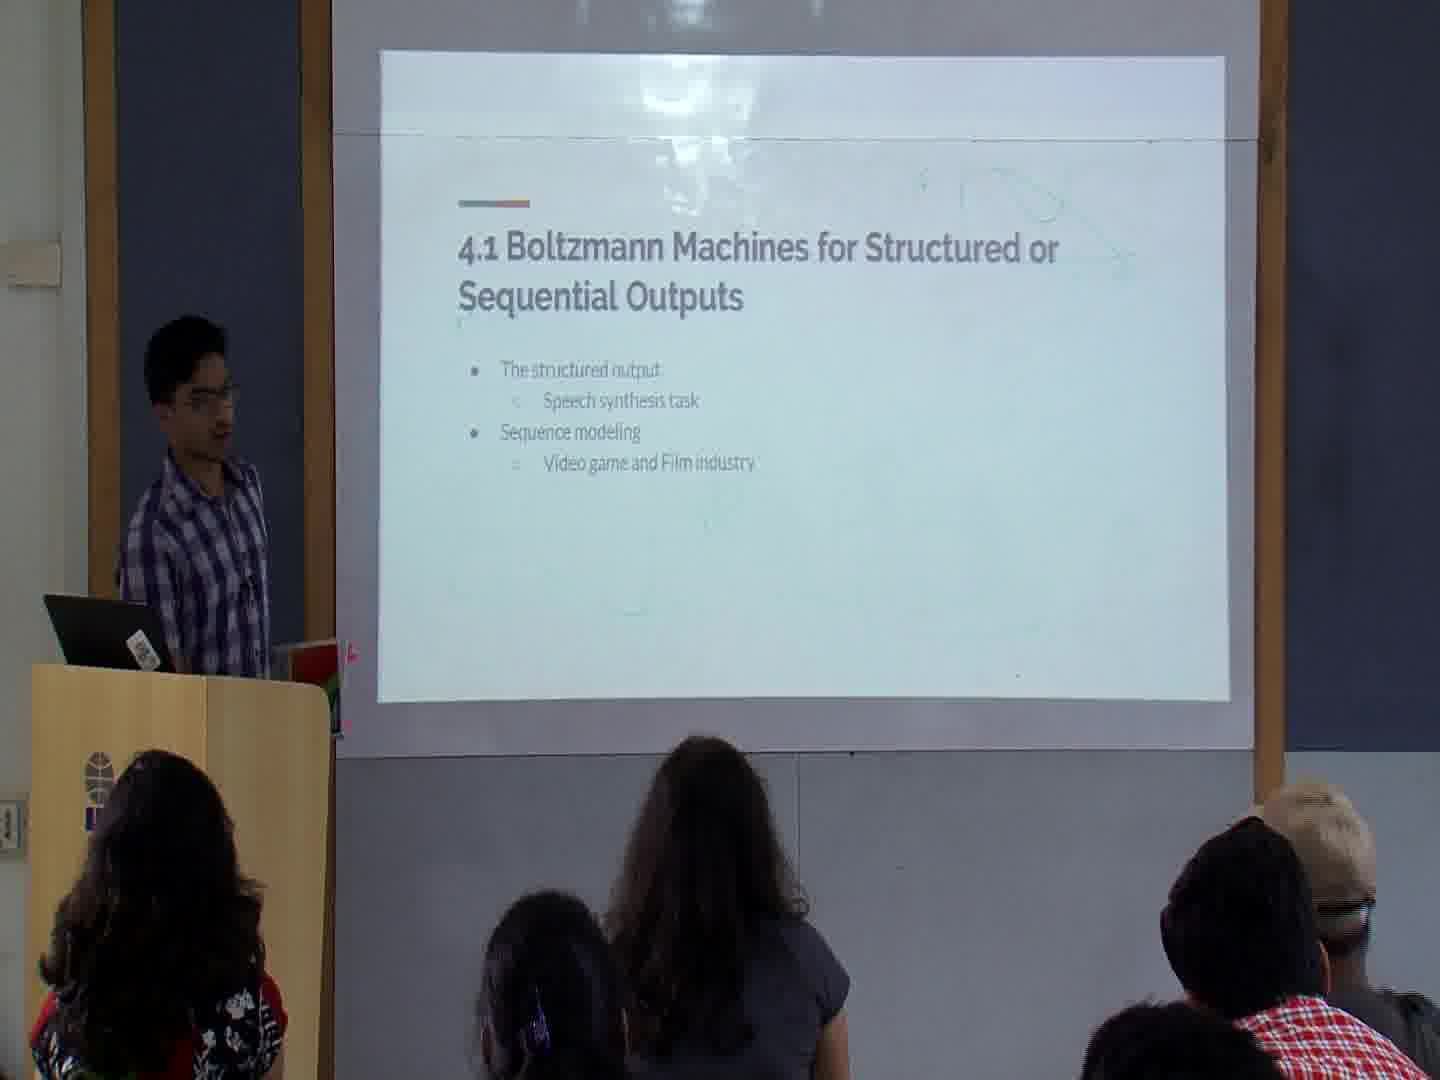slide: (381, 49, 1229, 700)
